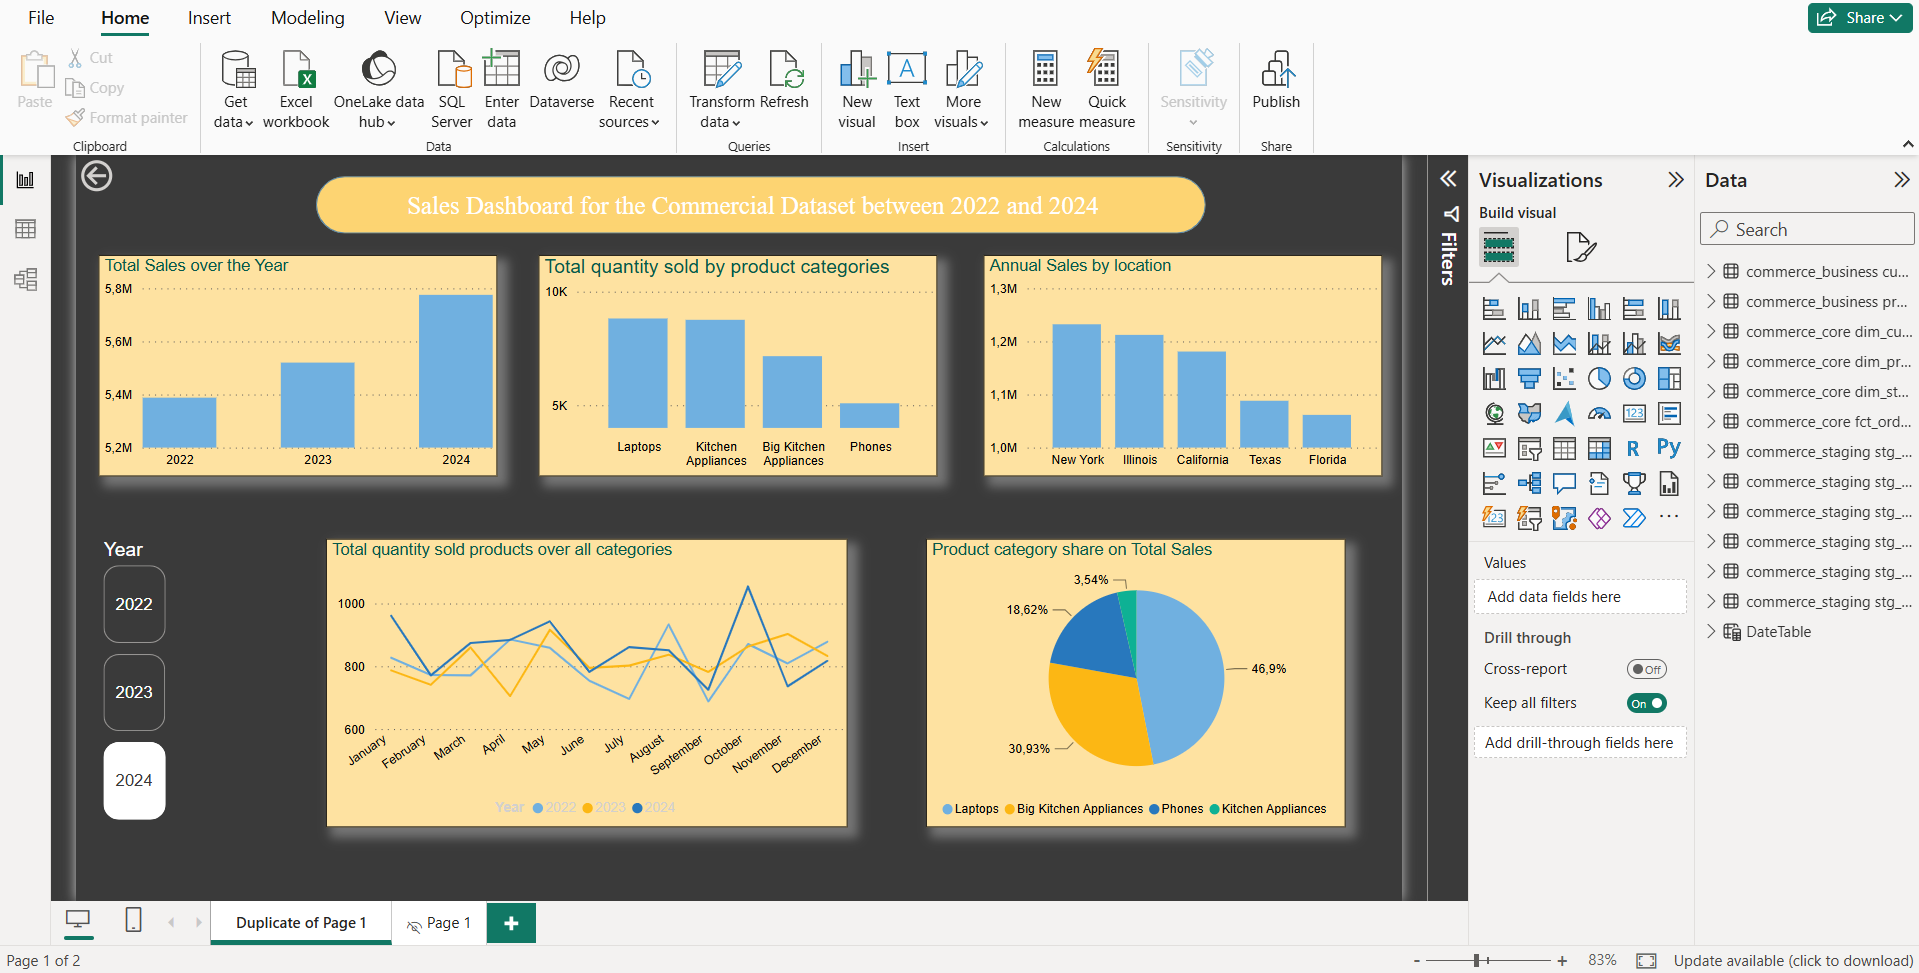

The page's visual inventory and layout, read from the dashboard file:
{"tool":"powerbi","page":{"name":"Duplicate of Page 1","canvas":[1280,720],"ordinal":0},"visuals":[{"type":"actionButton","box":[0,0,100,40],"z":0},{"type":"lineChart","title":"Total quantity sold products over all categories ","fields":{"Y":["Sum(commerce_staging stg_order_items.quantity)"],"Category":["DateTable.Month"],"Series":["DateTable.Year"]},"box":[241.7,370,503.3,278.3],"z":1000},{"type":"columnChart","title":"Total Sales over the Year","fields":{"Category":["DateTable.Year"],"Y":["DateTable.Total Sales"]},"box":[21.7,96.7,385,213.3],"z":2000},{"type":"clusteredColumnChart","title":"Total quantity sold by product categories","fields":{"Y":["Sum(commerce_core fct_orders.quantity)"],"Category":["commerce_core fct_orders.product_categories"]},"box":[446.7,96.7,385,213.3],"z":3000},{"type":"pieChart","title":"Product category share on Total Sales","fields":{"Category":["commerce_staging stg_product_categories.product_categories"],"Y":["DateTable.Category Sales %"]},"box":[820,370,405,278.3],"z":4000},{"type":"advancedSlicerVisual","title":"Year","fields":{"Values":["DateTable.Year"]},"box":[21.7,370,210,278.3],"z":5000},{"type":"clusteredColumnChart","title":"Annual Sales by location","fields":{"Y":["DateTable.Annual Sales by Store"],"Category":["commerce_staging stg_stores.location"]},"box":[875,96.7,385,213.3],"z":6000},{"type":"shape","box":[231.6,20.5,858.7,55.5],"z":8000},{"type":"textbox","box":[260.5,30.2,806.8,37.4],"z":8001}]}

Visuals, with their boxes on the page's 1280x720 design canvas (x1, y1, x2, y2). These are canvas units, not pixel positions in the 1919x973 screenshot, which may show the page scaled, cropped or inside an application window:
actionButton: <box>0,0,100,40</box>
"Total quantity sold products over all categories " lineChart: <box>242,370,745,648</box>
"Total Sales over the Year" columnChart: <box>22,97,407,310</box>
"Total quantity sold by product categories" clusteredColumnChart: <box>447,97,832,310</box>
"Product category share on Total Sales" pieChart: <box>820,370,1225,648</box>
"Year" advancedSlicerVisual: <box>22,370,232,648</box>
"Annual Sales by location" clusteredColumnChart: <box>875,97,1260,310</box>
shape: <box>232,20,1090,76</box>
textbox: <box>260,30,1067,68</box>
